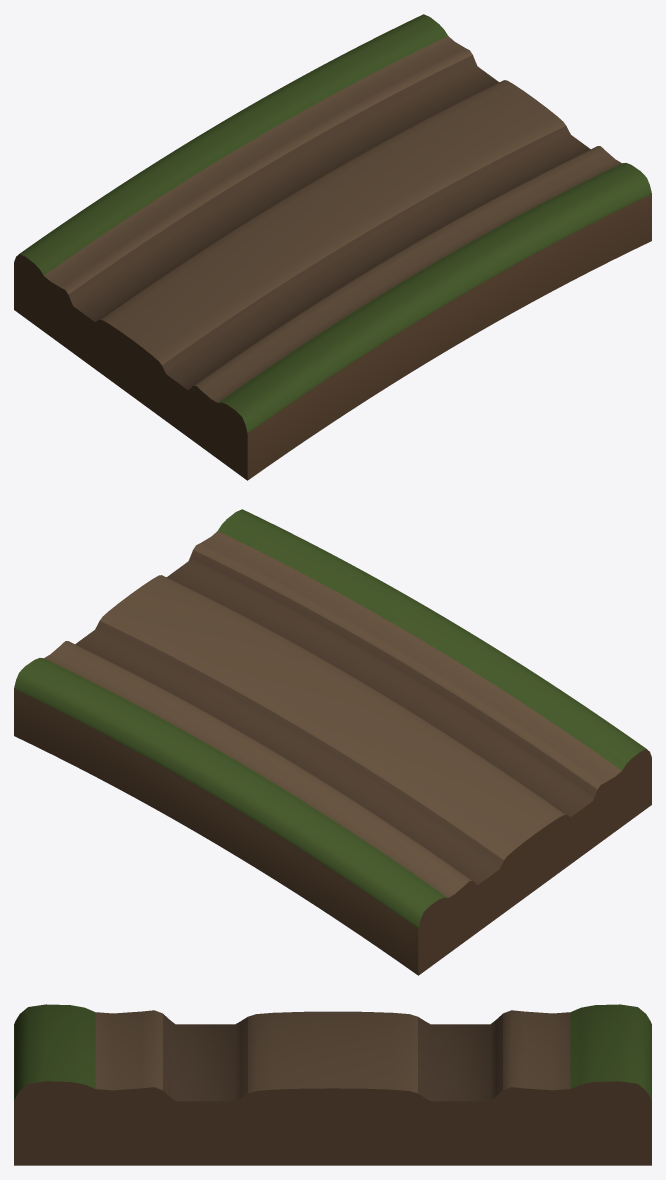
3 views of the same model, one above another, from view 1: azimuth 30°, elevation 25°; view 2: azimuth 150°, elevation 25°; view 3: azimuth 270°, elevation 25° (orthographic). The views are drawn at different scales.
Parts seen in each view (by area): view 1: e12o; view 2: e12o; view 3: e12o.
Part boxes in pixels (box(x1,y1,x2,y2)): e12o: box(14, 14, 651, 480); e12o: box(14, 509, 651, 975); e12o: box(14, 1004, 651, 1165).
Size of the model in its own units: 9 by 4.31 by 9.
